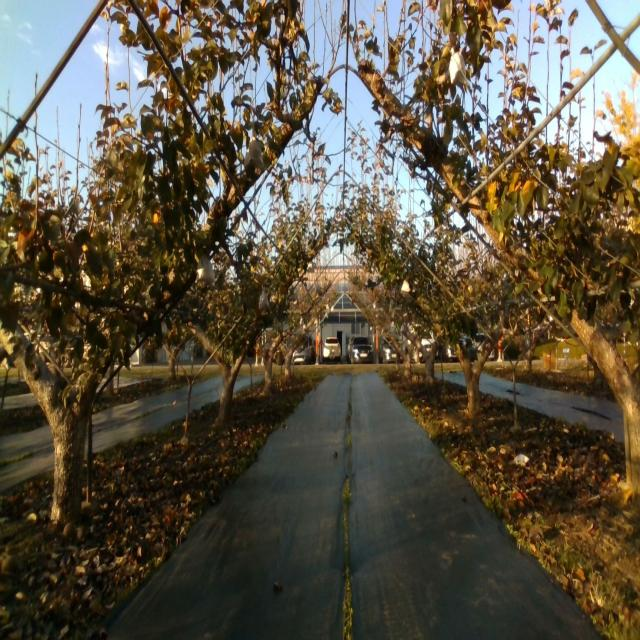pearbags: (448, 45, 470, 87), (244, 137, 265, 169), (196, 255, 216, 281), (258, 290, 270, 310)
